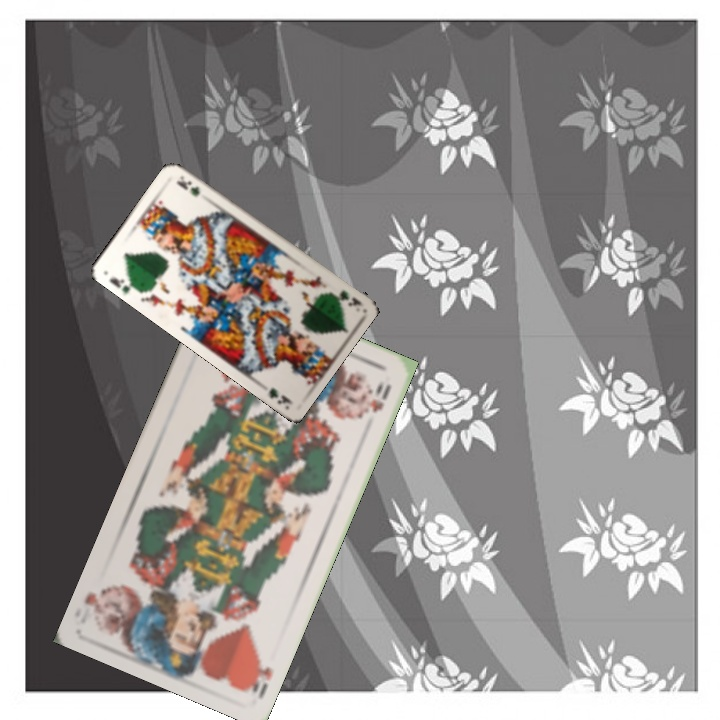GK: (325, 286, 364, 309), (105, 273, 142, 296)
HO: (248, 650, 275, 701)
